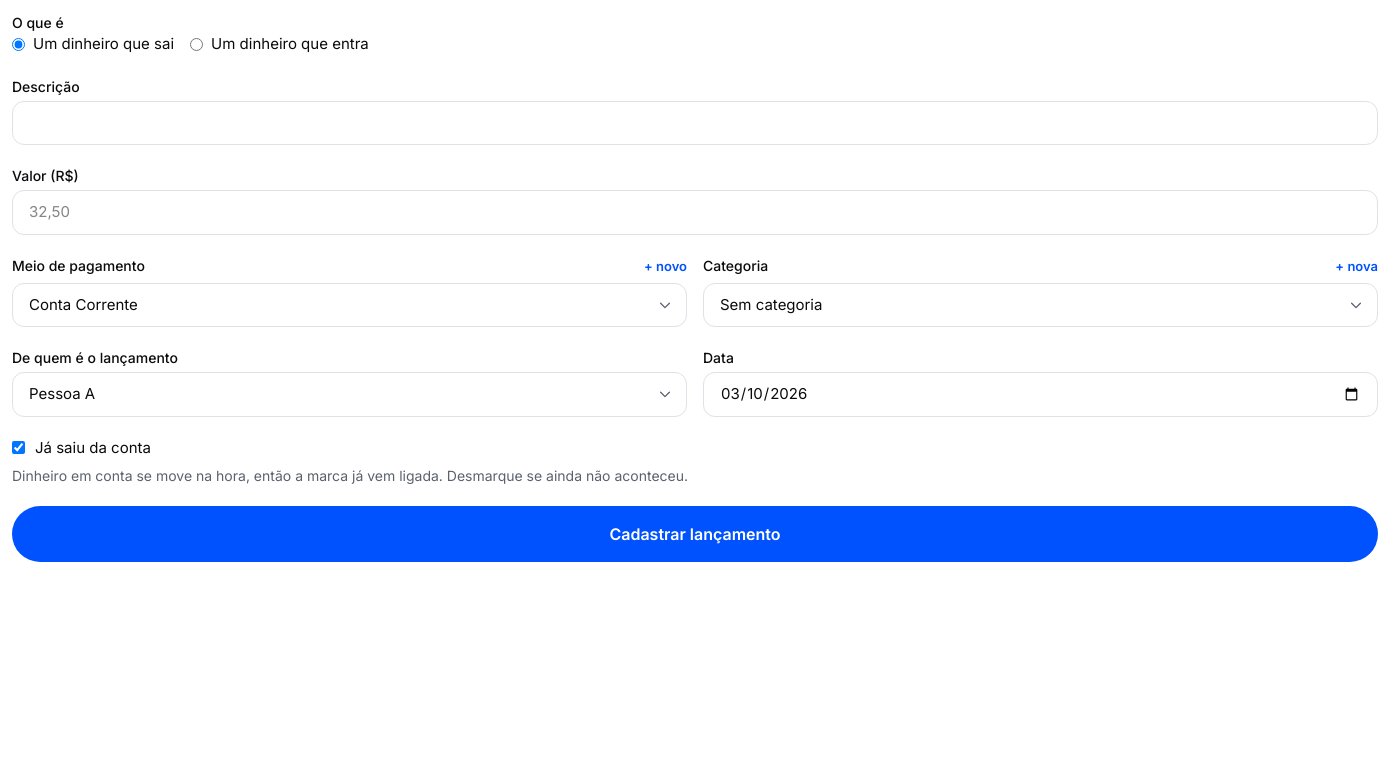
FormLancamentoAvulso — envio › limpa descrição e valor depois de gravar, mantendo meio e pessoa
Select "Cartão Roxo" in the dropdown labelled "Meio de pagamento" at (350, 305), box [12, 282, 687, 327]
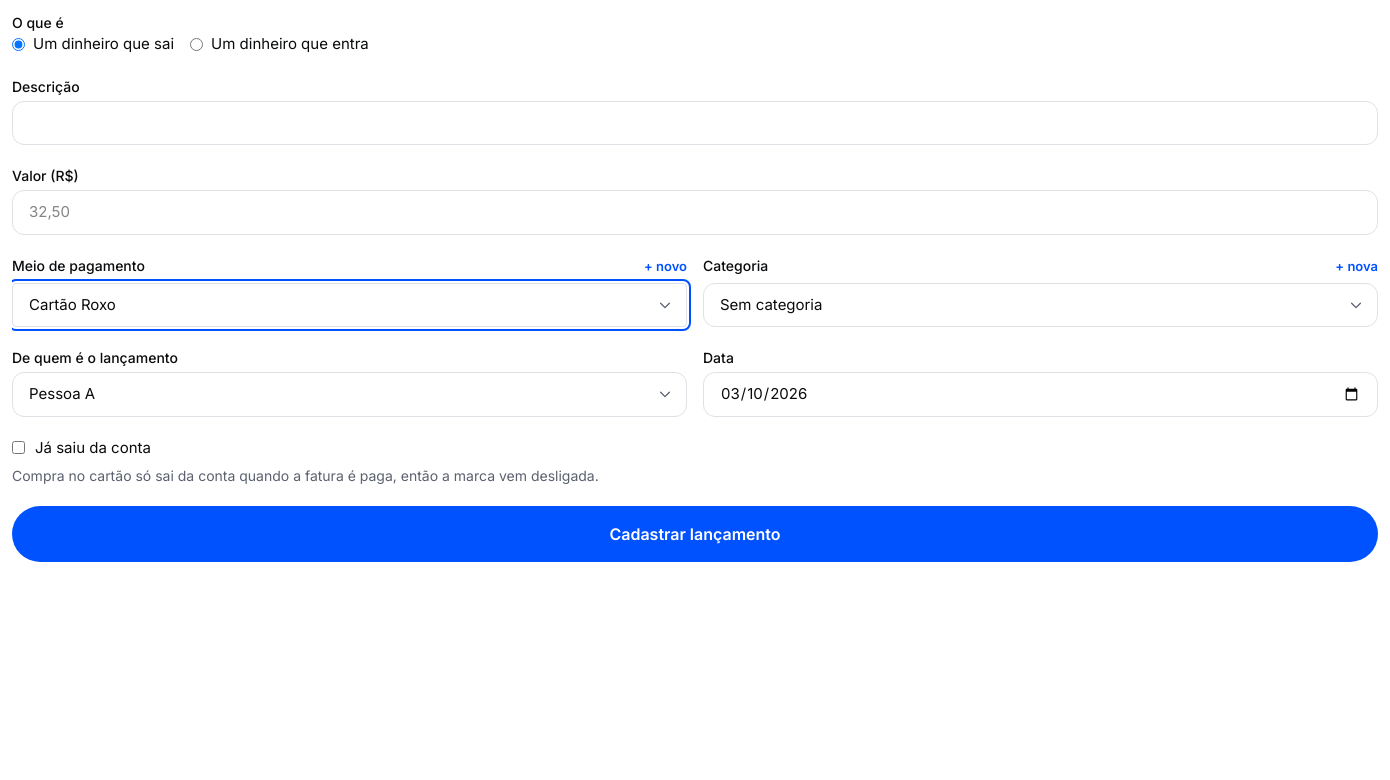
Type "Farmácia" into the field labelled "Descrição" at (695, 123), box [12, 100, 1378, 145]
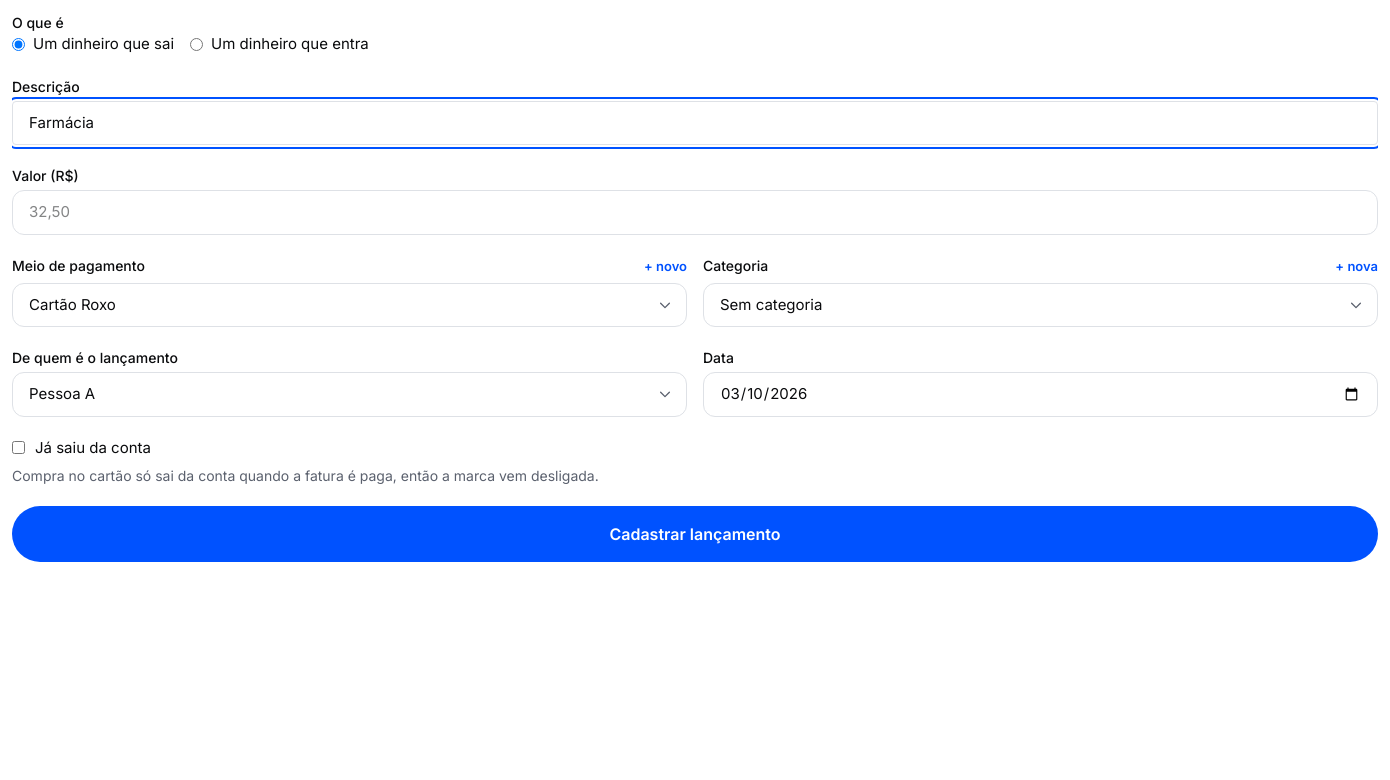
Type "18,90" into the field labelled "Valor (R$)" at (695, 212), box [12, 190, 1378, 234]
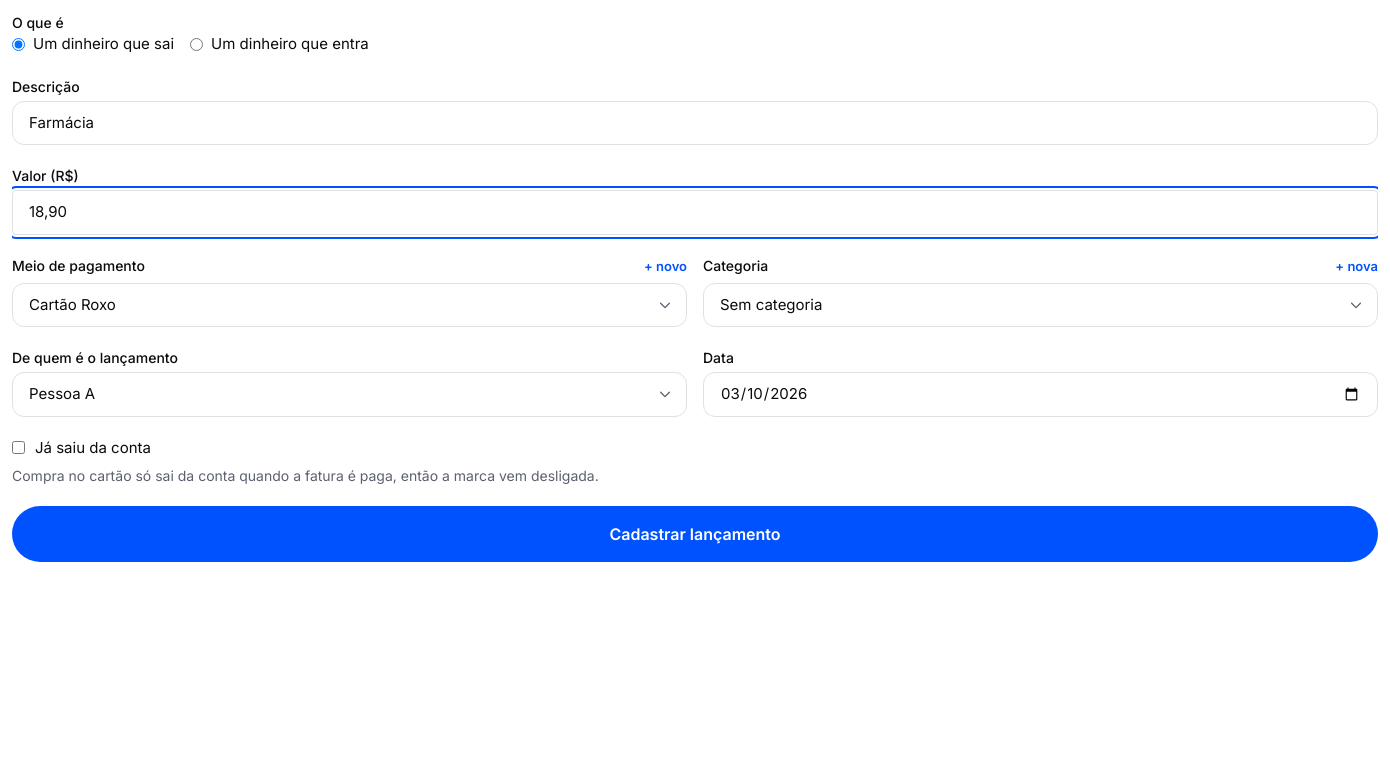
Click the button "Cadastrar lançamento" at (695, 534), box [12, 506, 1378, 562]
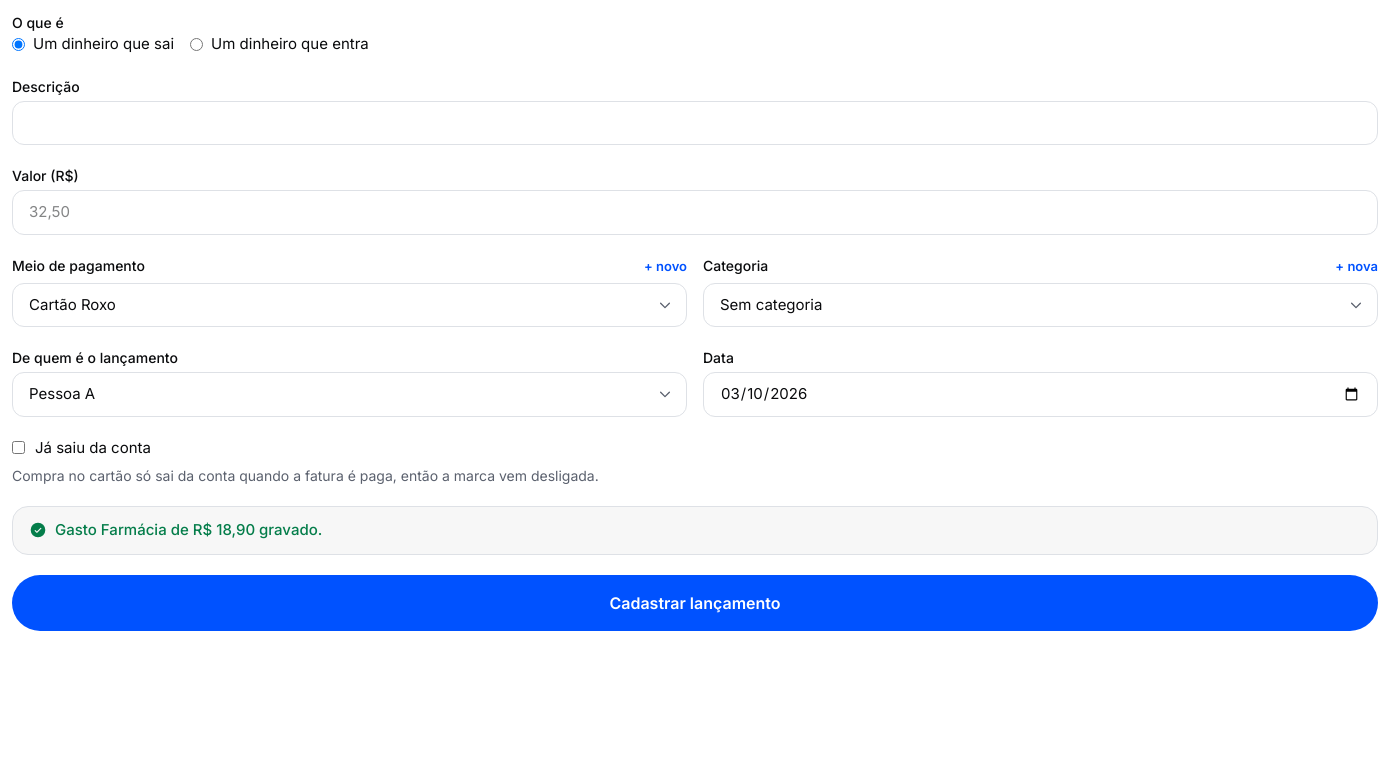
Expected: the message "Gasto Farmácia de R$ 18,90 gravado." is shown, [12, 506, 1378, 554]
Expected: the field labelled "Descrição" is empty, [12, 100, 1378, 145]
Expected: the field labelled "Valor (R$)" is empty, [12, 190, 1378, 234]
